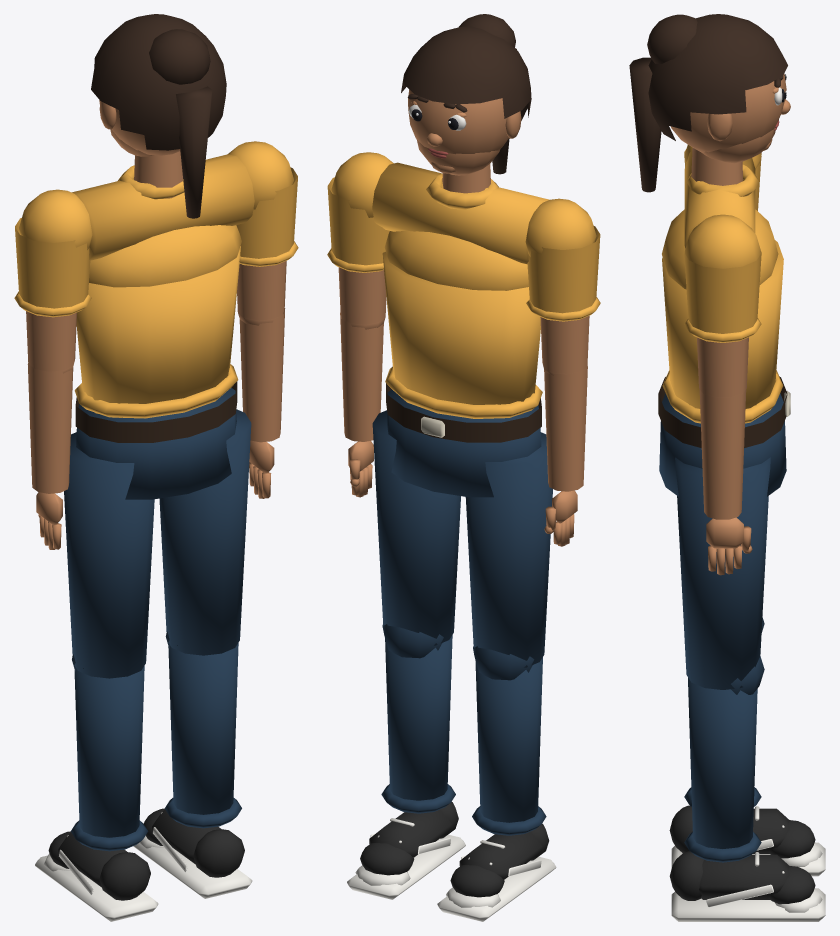
The model's file is person_2.glb.
3 views of the same model, side by side, from view 1: azimuth 30°, elevation 25°; view 2: azimuth 150°, elevation 25°; view 3: azimuth 270°, elevation 25° (orthographic). The views are drawn at different scales.
Visible parts, largest first — view 1: Body, Head, ShinL, ShinR, LegL, LegR, ArmL, ArmR, ForeArmL, ForeArmR; view 2: Body, ShinL, ShinR, Head, LegL, LegR, ArmL, ArmR, ForeArmL, ForeArmR; view 3: Head, ShinR, Body, LegR, ArmR, ForeArmR, ShinL.
Boxes of the visible parts, x1=… form: Body: x1=72, y1=154, x2=254, y2=499; Head: x1=91, y1=14, x2=226, y2=218; ShinL: x1=35, y1=666, x2=158, y2=921; ShinR: x1=133, y1=643, x2=252, y2=898; LegL: x1=64, y1=432, x2=154, y2=678; LegR: x1=159, y1=409, x2=251, y2=655; ArmL: x1=14, y1=189, x2=92, y2=373; ArmR: x1=228, y1=141, x2=298, y2=325; ForeArmL: x1=27, y1=363, x2=73, y2=549; ForeArmR: x1=239, y1=308, x2=285, y2=498; Body: x1=372, y1=162, x2=549, y2=497; ShinL: x1=437, y1=657, x2=556, y2=921; ShinR: x1=347, y1=635, x2=465, y2=899; Head: x1=401, y1=14, x2=531, y2=193; LegL: x1=465, y1=432, x2=552, y2=680; LegR: x1=372, y1=410, x2=460, y2=658; ArmL: x1=525, y1=198, x2=600, y2=375; ArmR: x1=327, y1=152, x2=393, y2=329; ForeArmL: x1=544, y1=366, x2=587, y2=546; ForeArmR: x1=340, y1=313, x2=383, y2=497; Head: x1=629, y1=14, x2=790, y2=192; ShinR: x1=669, y1=677, x2=825, y2=921; Body: x1=658, y1=151, x2=790, y2=496; LegR: x1=675, y1=457, x2=770, y2=694; ArmR: x1=684, y1=214, x2=761, y2=397; ForeArmR: x1=699, y1=389, x2=752, y2=575; ShinL: x1=669, y1=787, x2=825, y2=876.
Bounding box in the file's own units: 0.554 × 1.69 × 0.344.
